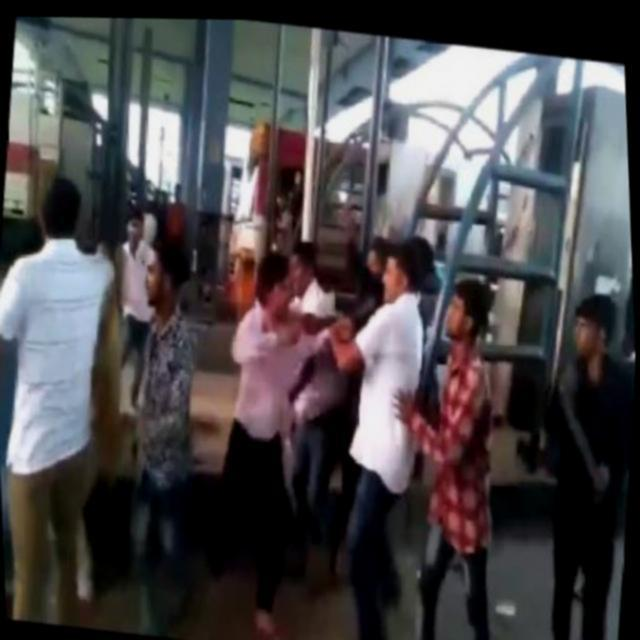fight: (202, 201, 444, 501)
